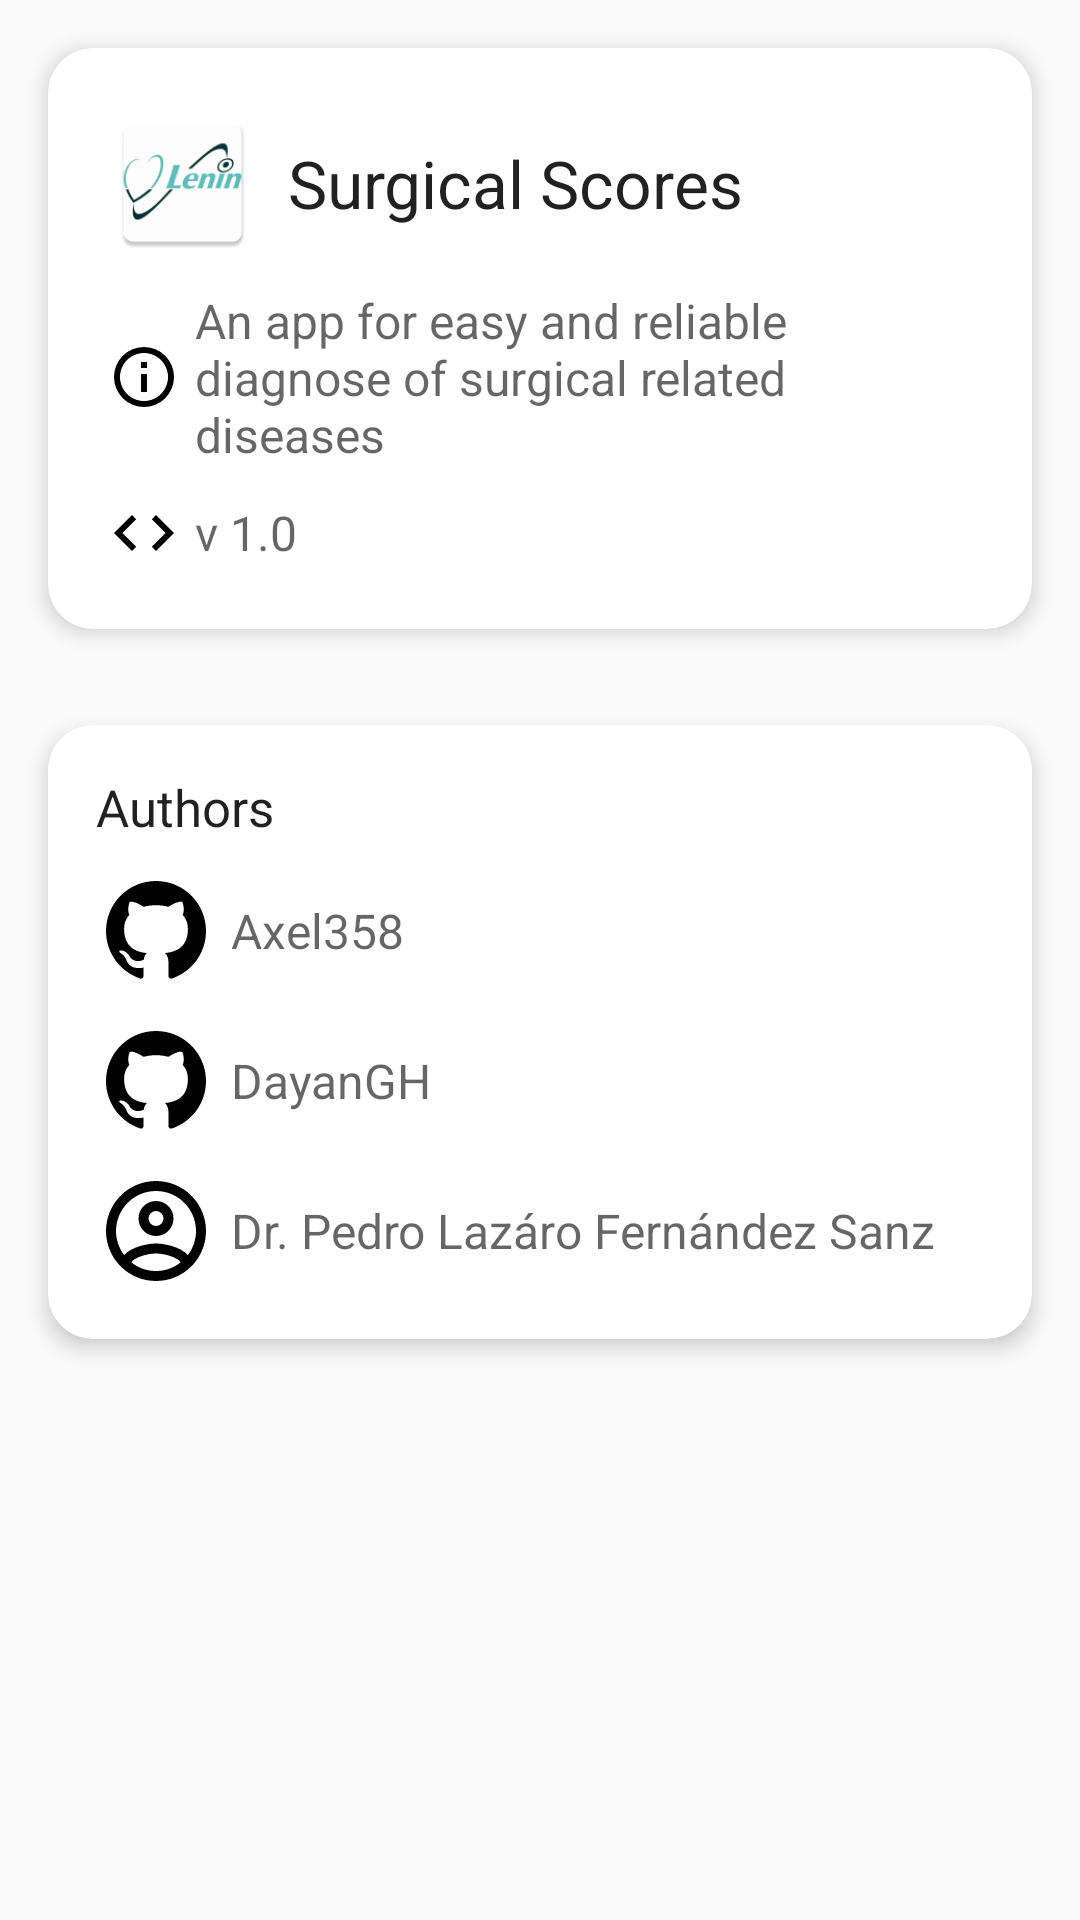

Where icons sit on this 1080px×1920px app screen, as [x1,y1,x2,y2]:
about: [114,347,174,407]
account: [106,1181,206,1281]
code: [114,515,174,551]
